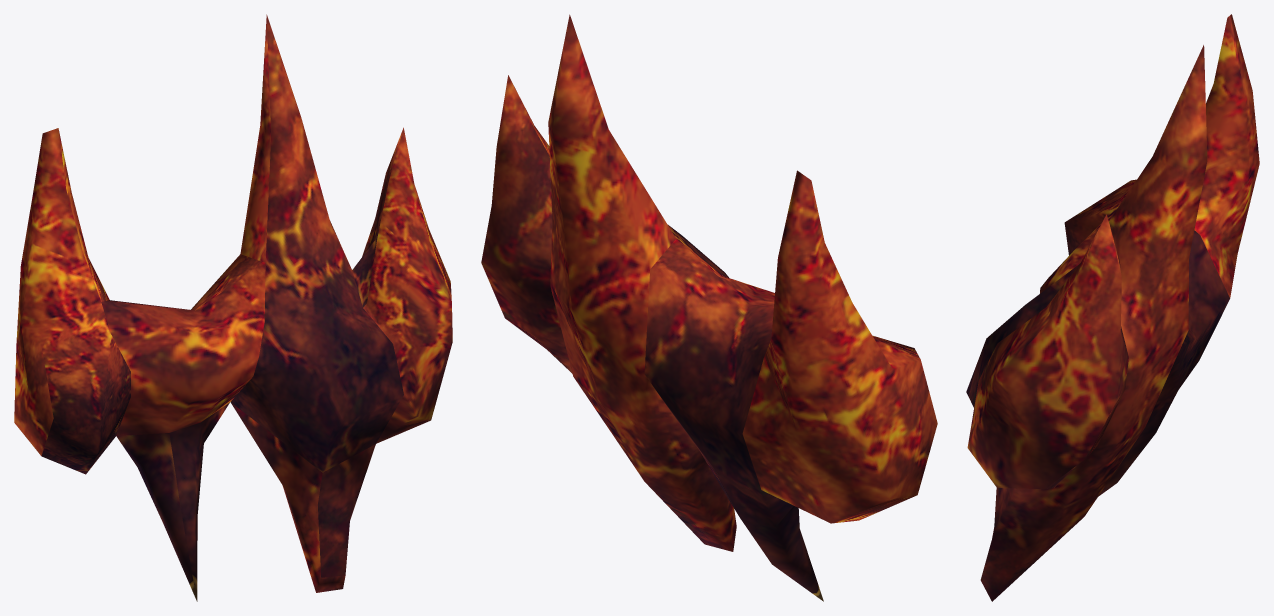
Rendered from Scene_rongyan_019.FBX.
The picture shows the model from 3 angles, left to right: view 1: azimuth 30°, elevation 25°; view 2: azimuth 150°, elevation 25°; view 3: azimuth 270°, elevation 25°; orthographic projection. The views are drawn at different scales.
Parts seen in each view (by area): view 1: Scene_rongyan_019; view 2: Scene_rongyan_019; view 3: Scene_rongyan_019.
Part boxes in pixels (bbox=[...]): Scene_rongyan_019: bbox=[14, 14, 452, 601]; Scene_rongyan_019: bbox=[481, 14, 937, 601]; Scene_rongyan_019: bbox=[966, 14, 1259, 601].
Size of the model in its own units: 9.54 by 11.98 by 5.61.
